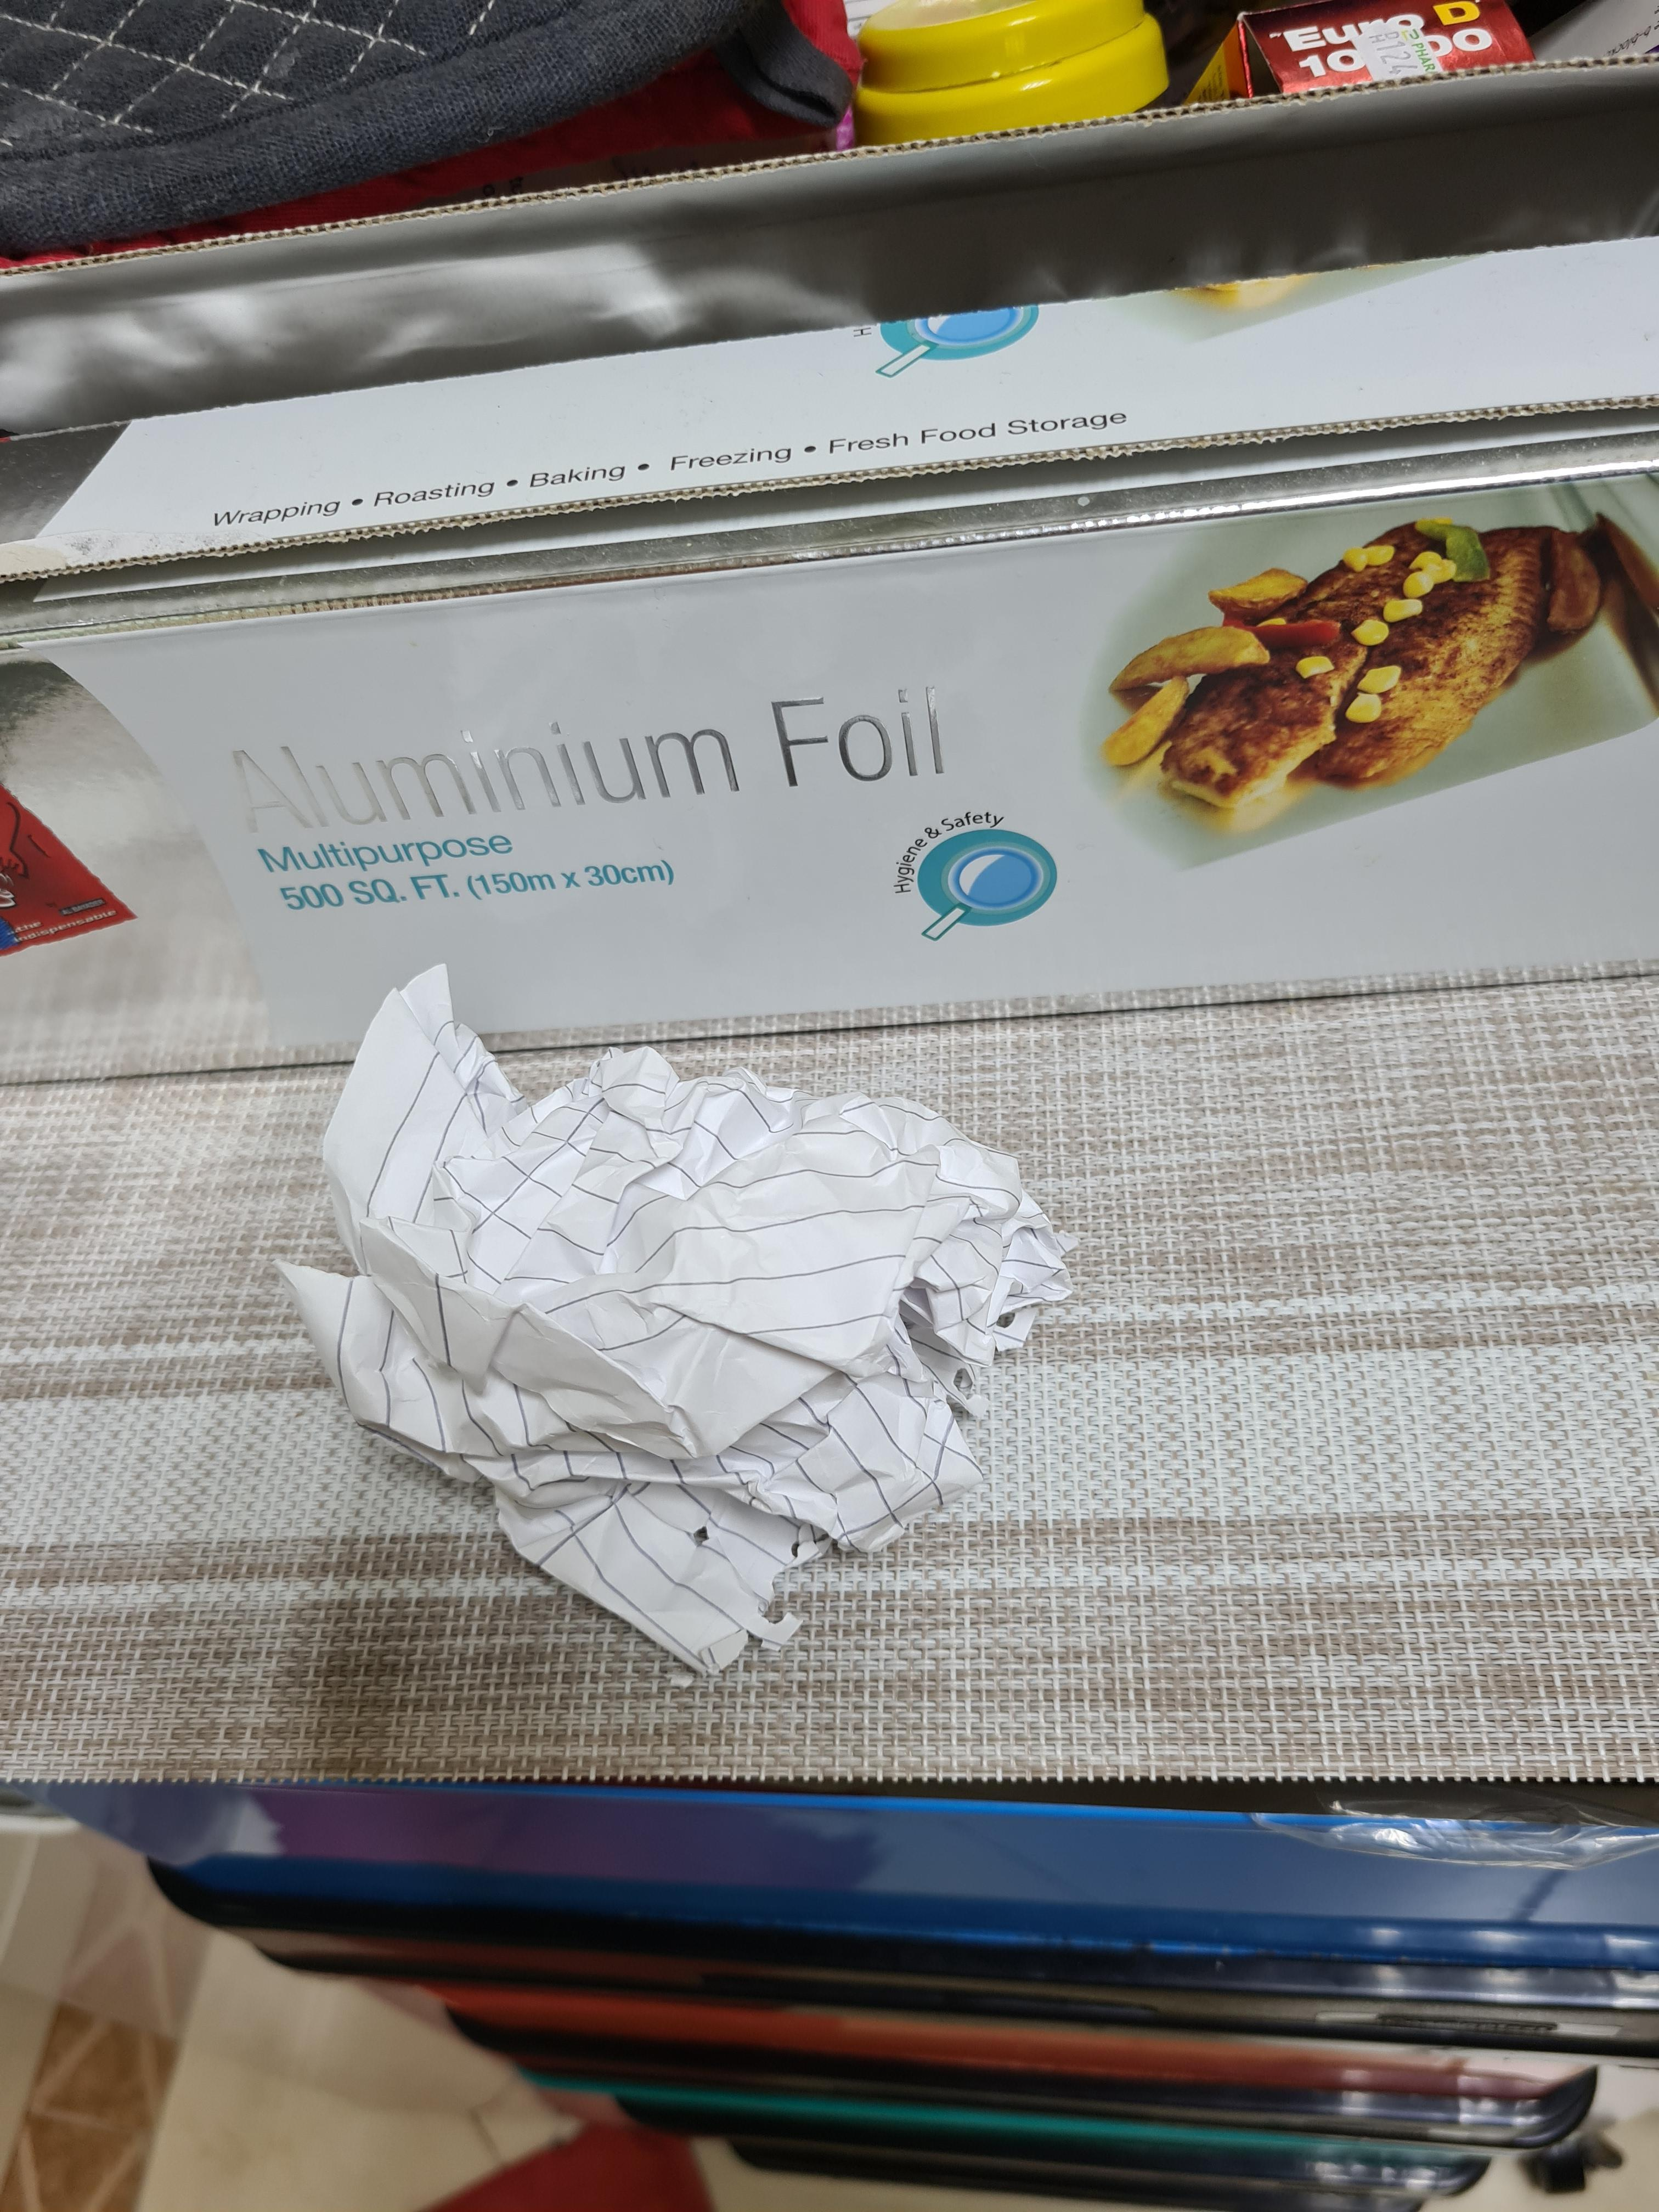Paper: (275, 1043, 1050, 1658)
